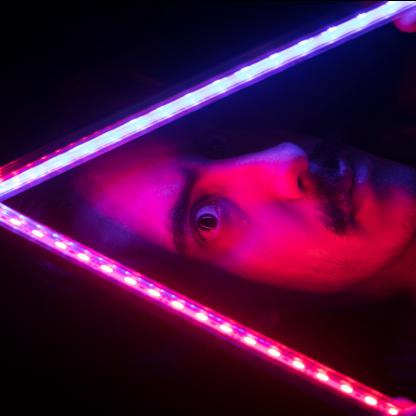Eye: (188, 193, 232, 250), (197, 124, 241, 158)
Mouth: (337, 144, 373, 226)
Nose: (217, 141, 309, 198)
